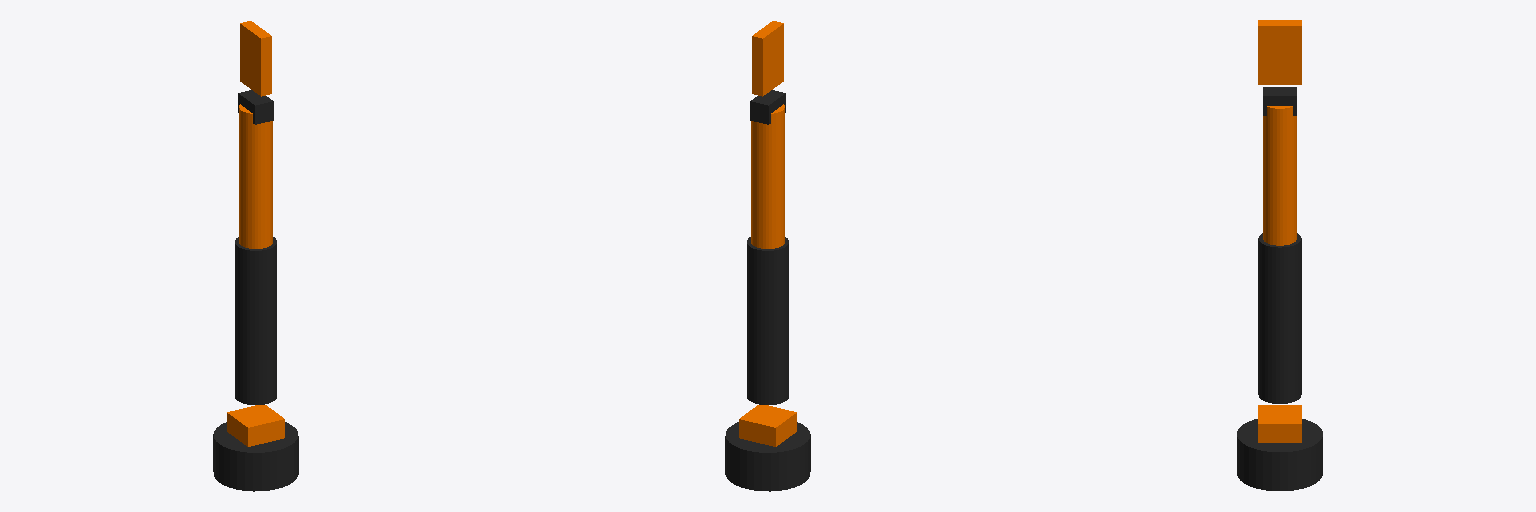
URDF robot description (urc_arm):
<?xml version="1.0" ?>
<robot name="urc_arm">

  <material name="orange"><color rgba="1.0 0.5 0.0 1.0"/></material>
  <material name="grey"><color rgba="0.2 0.2 0.2 1.0"/></material>

  <link name="base_link">
    <visual>
      <geometry><cylinder length="0.1" radius="0.1"/></geometry>
      <material name="grey"/>
    </visual>
    <collision>
      <geometry><cylinder length="0.1" radius="0.1"/></geometry>
    </collision>
    <inertial>
      <mass value="1.0"/>
      <inertia ixx="0.01" ixy="0" ixz="0" iyy="0.01" iyz="0" izz="0.01"/>
    </inertial>
  </link>

  <joint name="joint_1" type="revolute">
    <parent link="base_link"/>
    <child link="shoulder_link"/>
    <origin rpy="0 0 0" xyz="0 0 0.05"/>
    <axis xyz="0 0 1"/>
    <limit effort="100" lower="-3.14" upper="3.14" velocity="1.0"/>
  </joint>

  <link name="shoulder_link">
    <visual>
      <geometry><box size="0.1 0.1 0.1"/></geometry>
      <material name="orange"/>
    </visual>
    <collision>
      <geometry><box size="0.1 0.1 0.1"/></geometry>
    </collision>
    <inertial>
      <mass value="0.5"/>
      <inertia ixx="0.001" ixy="0" ixz="0" iyy="0.001" iyz="0" izz="0.001"/>
    </inertial>
  </link>

  <joint name="joint_2" type="revolute">
    <parent link="shoulder_link"/>
    <child link="upper_arm_link"/>
    <origin rpy="0 0 0" xyz="0 0 0.1"/>
    <axis xyz="0 1 0"/>
    <limit effort="200" lower="-1.57" upper="1.57" velocity="1.0"/>
  </joint>

  <link name="upper_arm_link">
    <visual>
      <origin rpy="0 0 0" xyz="0 0 0.2"/>
      <geometry><cylinder length="0.4" radius="0.05"/></geometry>
      <material name="grey"/>
    </visual>
    <collision>
      <origin rpy="0 0 0" xyz="0 0 0.2"/>
      <geometry><cylinder length="0.4" radius="0.05"/></geometry>
    </collision>
    <inertial>
      <origin xyz="0 0 0.2"/>
      <mass value="0.8"/>
      <inertia ixx="0.01" ixy="0" ixz="0" iyy="0.01" iyz="0" izz="0.001"/>
    </inertial>
  </link>

  <joint name="joint_3" type="revolute">
    <parent link="upper_arm_link"/>
    <child link="forearm_link"/>
    <origin rpy="0 0 0" xyz="0 0 0.4"/>
    <axis xyz="0 1 0"/>
    <limit effort="150" lower="-2.5" upper="2.5" velocity="1.0"/>
  </joint>

  <link name="forearm_link">
    <visual>
      <origin rpy="0 0 0" xyz="0 0 0.175"/>
      <geometry><cylinder length="0.35" radius="0.04"/></geometry>
      <material name="orange"/>
    </visual>
    <collision>
      <origin rpy="0 0 0" xyz="0 0 0.175"/>
      <geometry><cylinder length="0.35" radius="0.04"/></geometry>
    </collision>
    <inertial>
      <origin xyz="0 0 0.175"/>
      <mass value="0.6"/>
      <inertia ixx="0.005" ixy="0" ixz="0" iyy="0.005" iyz="0" izz="0.001"/>
    </inertial>
  </link>

  <joint name="joint_4" type="revolute">
    <parent link="forearm_link"/>
    <child link="wrist_link"/>
    <origin rpy="0 0 0" xyz="0 0 0.35"/>
    <axis xyz="0 1 0"/>
    <limit effort="50" lower="-1.57" upper="1.57" velocity="1.5"/>
  </joint>

  <link name="wrist_link">
    <visual>
      <geometry><box size="0.05 0.08 0.05"/></geometry>
      <material name="grey"/>
    </visual>
    <collision>
      <geometry><box size="0.05 0.08 0.05"/></geometry>
    </collision>
    <inertial>
      <mass value="0.2"/>
      <inertia ixx="0.0005" ixy="0" ixz="0" iyy="0.0005" iyz="0" izz="0.0005"/>
    </inertial>
  </link>

  <joint name="joint_5" type="revolute">
    <parent link="wrist_link"/>
    <child link="end_effector_link"/>
    <origin rpy="0 0 0" xyz="0 0 0.05"/>
    <axis xyz="1 0 0"/>
    <limit effort="20" lower="-3.14" upper="3.14" velocity="2.0"/>
  </joint>

  <link name="end_effector_link">
    <visual>
      <origin rpy="0 0 0" xyz="0 0 0.075"/>
      <geometry><box size="0.03 0.1 0.15"/></geometry>
      <material name="orange"/>
    </visual>
    <collision>
      <origin rpy="0 0 0" xyz="0 0 0.075"/>
      <geometry><box size="0.03 0.1 0.15"/></geometry>
    </collision>
    <inertial>
      <origin xyz="0 0 0.075"/>
      <mass value="0.3"/>
      <inertia ixx="0.001" ixy="0" ixz="0" iyy="0.001" iyz="0" izz="0.001"/>
    </inertial>
  </link>

  <joint name="camera_joint" type="fixed">
    <parent link="end_effector_link"/>
    <child link="camera_link"/>
    <origin rpy="0 -1.57 0" xyz="0.03 0 0.05"/>
  </joint>
  
  <link name="camera_link">
    <visual>
      <geometry><box size="0.001 0.001 0.001"/></geometry>
    </visual>
    <collision>
      <geometry><box size="0.001 0.001 0.001"/></geometry>
    </collision>
    <inertial>
      <mass value="0.01"/>
      <inertia ixx="1e-6" ixy="0" ixz="0" iyy="1e-6" iyz="0" izz="1e-6"/>
    </inertial>
  </link>

  <joint name="tof_joint" type="fixed">
    <parent link="end_effector_link"/>
    <child link="tof_link"/>
    <origin rpy="0 -1.57 0" xyz="0.03 0.02 0.05"/>
  </joint>

  <link name="tof_link">
    <visual>
      <geometry><box size="0.001 0.001 0.001"/></geometry>
    </visual>
    <collision>
      <geometry><box size="0.001 0.001 0.001"/></geometry>
    </collision>
    <inertial>
      <mass value="0.01"/>
      <inertia ixx="1e-6" ixy="0" ixz="0" iyy="1e-6" iyz="0" izz="1e-6"/>
    </inertial>
  </link>

</robot>

--- Facts derived from the render (not from the file) ---
3 views of the same robot in one strip: view 1: azimuth 30°, elevation 25°; view 2: azimuth 150°, elevation 25°; view 3: azimuth 270°, elevation 25° (orthographic).
Model urc_arm with 8 links and 7 joints (5 revolute, 2 fixed), rooted at base_link, posed all joints at 0.
Links seen in each view (by area): view 1: upper_arm_link, forearm_link, base_link, end_effector_link, shoulder_link, wrist_link; view 2: upper_arm_link, forearm_link, base_link, end_effector_link, shoulder_link, wrist_link; view 3: upper_arm_link, base_link, forearm_link, end_effector_link, shoulder_link, wrist_link.
Link boxes in pixels (x1,y1,x2,y2): upper_arm_link: (235,237,276,404); forearm_link: (239,104,272,248); base_link: (213,422,298,491); end_effector_link: (240,21,271,96); shoulder_link: (227,405,284,446); wrist_link: (238,90,273,124); upper_arm_link: (747,237,788,404); forearm_link: (751,104,784,248); base_link: (725,422,810,491); end_effector_link: (752,21,783,96); shoulder_link: (739,405,796,446); wrist_link: (750,90,785,124); upper_arm_link: (1258,233,1301,403); base_link: (1237,419,1322,490); forearm_link: (1263,106,1296,245); end_effector_link: (1258,20,1301,84); shoulder_link: (1258,405,1301,442); wrist_link: (1263,87,1296,115).
Bounding box of the posed robot: 0.2 × 0.2 × 1.15 m (x, y, z).
Geometry: primitives only (box / cylinder / sphere), no mesh files.